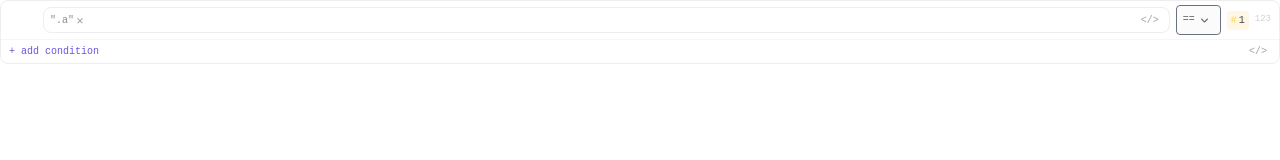
Test: ConditionBuilder › supports a falsy test
Select "| not" in the dropdown. click: (1198, 20)
box: 1176,5 -> 1221,35
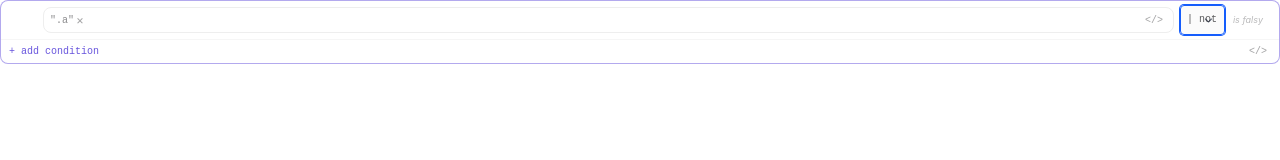
Result: the text "is falsy" is shown at 1231,13 -> 1265,27
